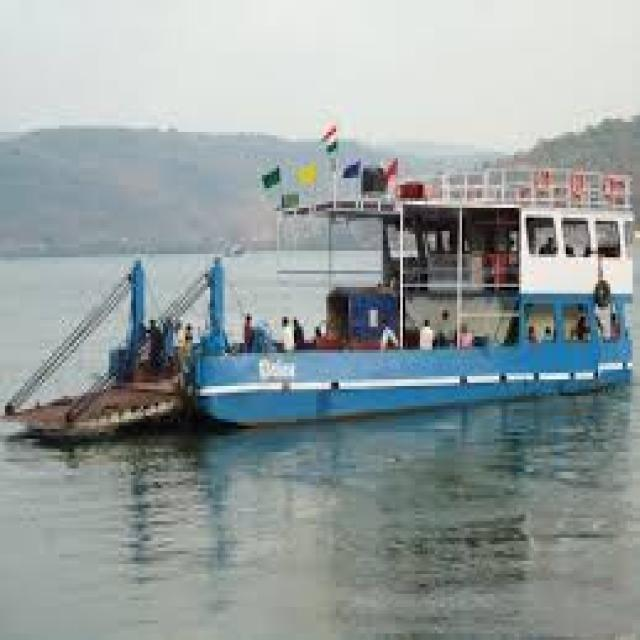fishing boat: (58, 114, 637, 426)
